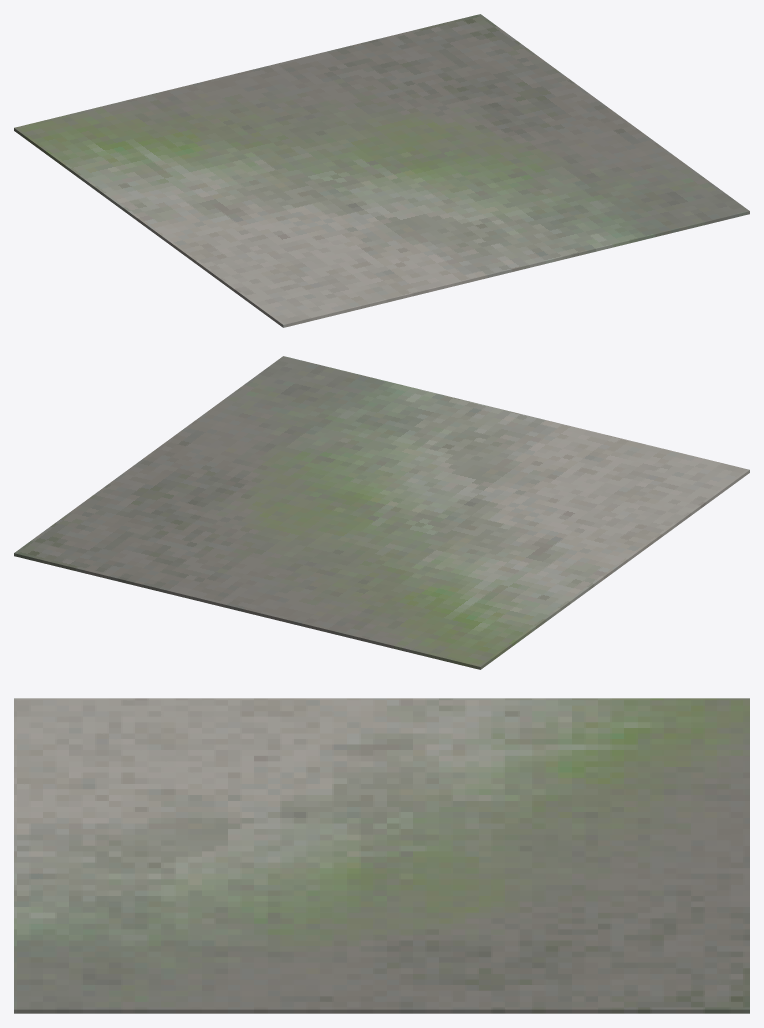
Rendered from rooftop_white2.glb.
3 views of the same model, one above another, from view 1: azimuth 30°, elevation 25°; view 2: azimuth 150°, elevation 25°; view 3: azimuth 270°, elevation 25° (orthographic). The views are drawn at different scales.
Parts seen in each view (by area): view 1: rooftop5; view 2: rooftop5; view 3: rooftop5.
Part boxes in pixels (x1,y1,x2,y2): rooftop5: (14,14,749,327); rooftop5: (14,356,749,669); rooftop5: (14,698,749,1013).
Size of the model in its own units: 33.94 by 0.2052 by 33.94.
1 material, 1 textured.
